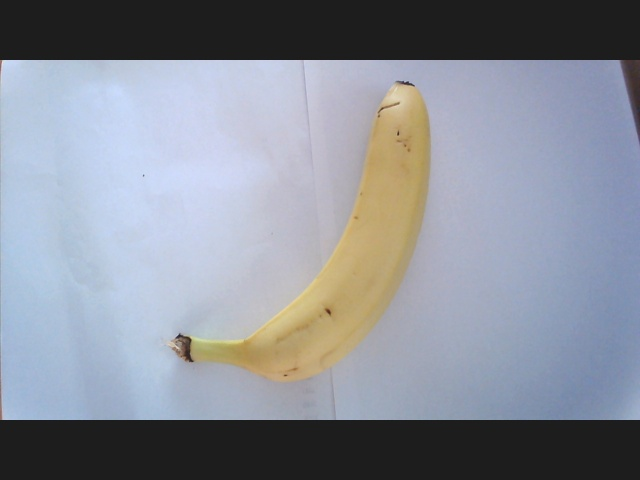banana: (203, 82, 426, 395)
